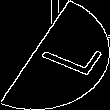L_NW: (16, 29, 94, 81)
